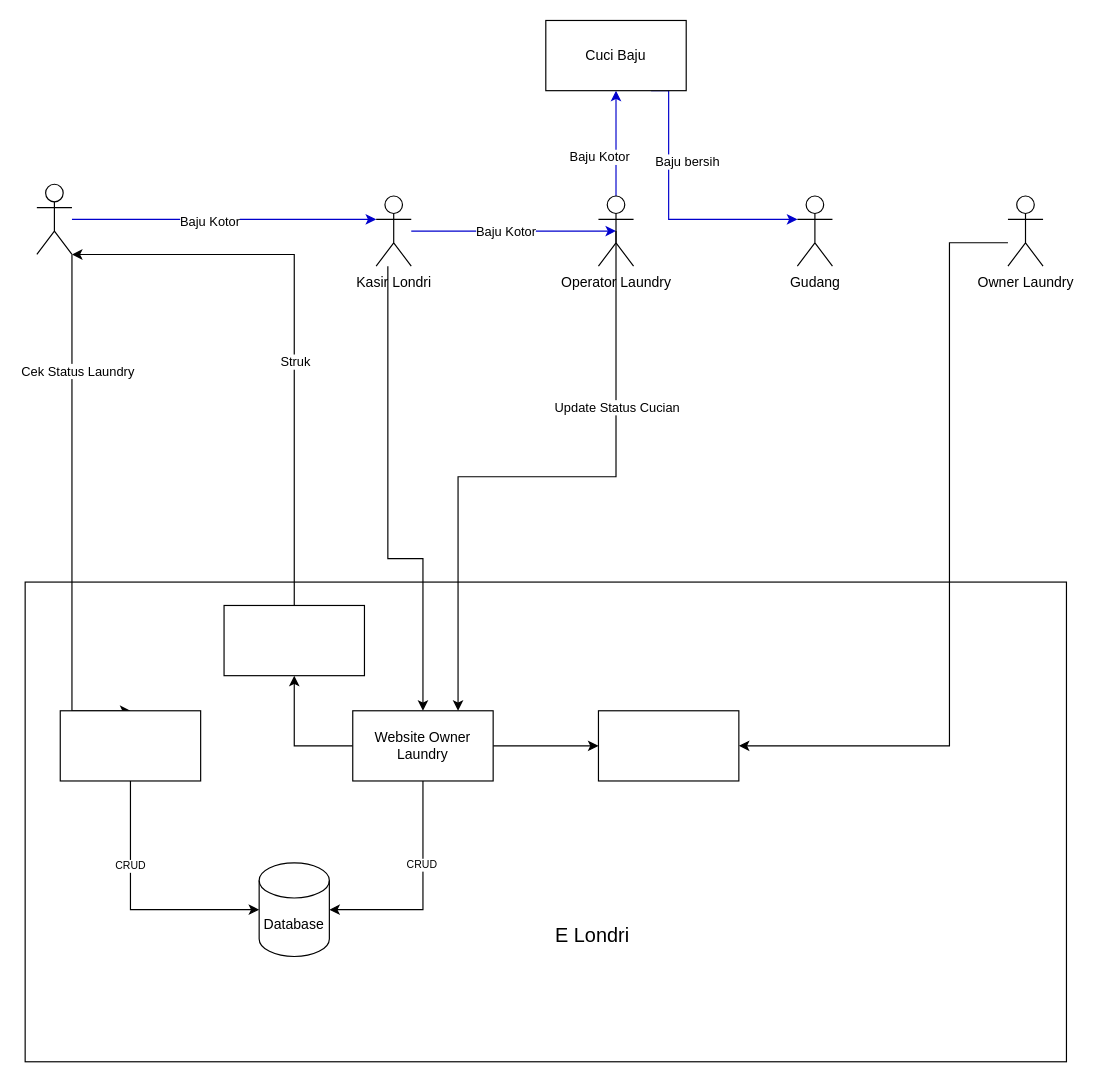
The diagram is 1093 pixels wide and 1082 high, and some of its shapes have lost their labels. Here are the shapes that lost their labels. From the top down, the box of each, then its label:
(36, 183, 72, 254): Customer
(223, 604, 364, 676): Printer
(59, 710, 201, 781): Website Customer
(597, 710, 739, 781): Analytical Report
